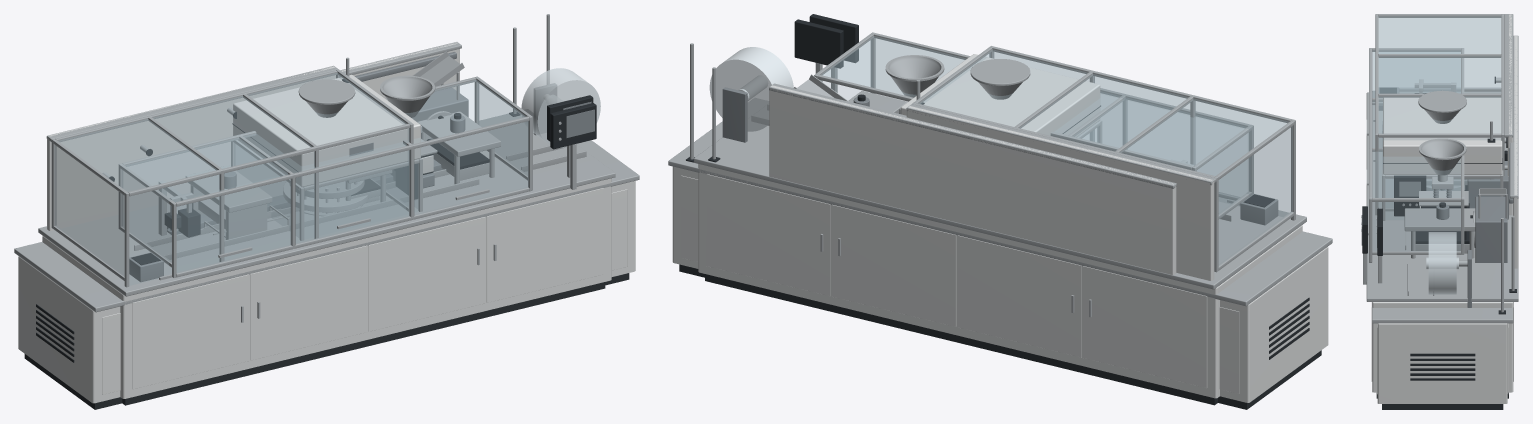
File: machines.glb
3 renders of one model, left to right at view 1: azimuth 30°, elevation 25°; view 2: azimuth 150°, elevation 25°; view 3: azimuth 270°, elevation 25°, orthographic. The views are drawn at different scales.
Parts seen in each view (by area): view 1: cover (×3), body (×2), table (×2), wall (×2), head, punching, forming, hopper (×2), panel (×2), film, magazine, rotor (+3 smaller); view 2: body (×2), wall (×2), cover (×2), table (×2), head, film, hopper (×2), panel (×2), forming; view 3: cover (×3), body (×2), table (×2), head, wall (×2), forming, hopper (×2), magazine, film, panel (×3), leaflet, feeder (+1 smaller).
Part boxes in pixels (left/top/right/bottom): cover (×3): left=51, top=69, right=532, bottom=287; body (×2): left=18, top=178, right=635, bottom=409; table (×2): left=14, top=14, right=639, bottom=312; wall (×2): left=46, top=42, right=461, bottom=230; head: left=232, top=57, right=420, bottom=187; punching: left=185, top=165, right=272, bottom=239; forming: left=417, top=111, right=500, bottom=184; hopper (×2): left=298, top=75, right=435, bottom=132; panel (×2): left=547, top=95, right=596, bottom=189; film: left=521, top=68, right=600, bottom=147; magazine: left=412, top=51, right=468, bottom=140; rotor: left=283, top=180, right=368, bottom=215; body (×2): left=672, top=164, right=1328, bottom=409; wall (×2): left=769, top=83, right=1216, bottom=292; cover (×2): left=814, top=32, right=1295, bottom=272; table (×2): left=668, top=43, right=1332, bottom=306; head: left=900, top=54, right=1100, bottom=137; film: left=709, top=47, right=793, bottom=131; hopper (×2): left=885, top=55, right=1030, bottom=113; panel (×2): left=794, top=14, right=858, bottom=92; forming: left=848, top=91, right=907, bottom=113; cover (×3): left=1366, top=14, right=1504, bottom=262; body (×2): left=1371, top=302, right=1513, bottom=409; table (×2): left=1366, top=87, right=1518, bottom=323; head: left=1382, top=97, right=1502, bottom=174; wall (×2): left=1494, top=14, right=1518, bottom=268; forming: left=1404, top=202, right=1475, bottom=258; hopper (×2): left=1418, top=90, right=1466, bottom=197; magazine: left=1470, top=188, right=1507, bottom=262; film: left=1426, top=232, right=1458, bottom=294; panel (×3): left=1361, top=175, right=1426, bottom=284; leaflet: left=1464, top=161, right=1508, bottom=219; feeder: left=1419, top=191, right=1469, bottom=208.
Bounding box in the file's own units: 5 × 2 × 1.45.
